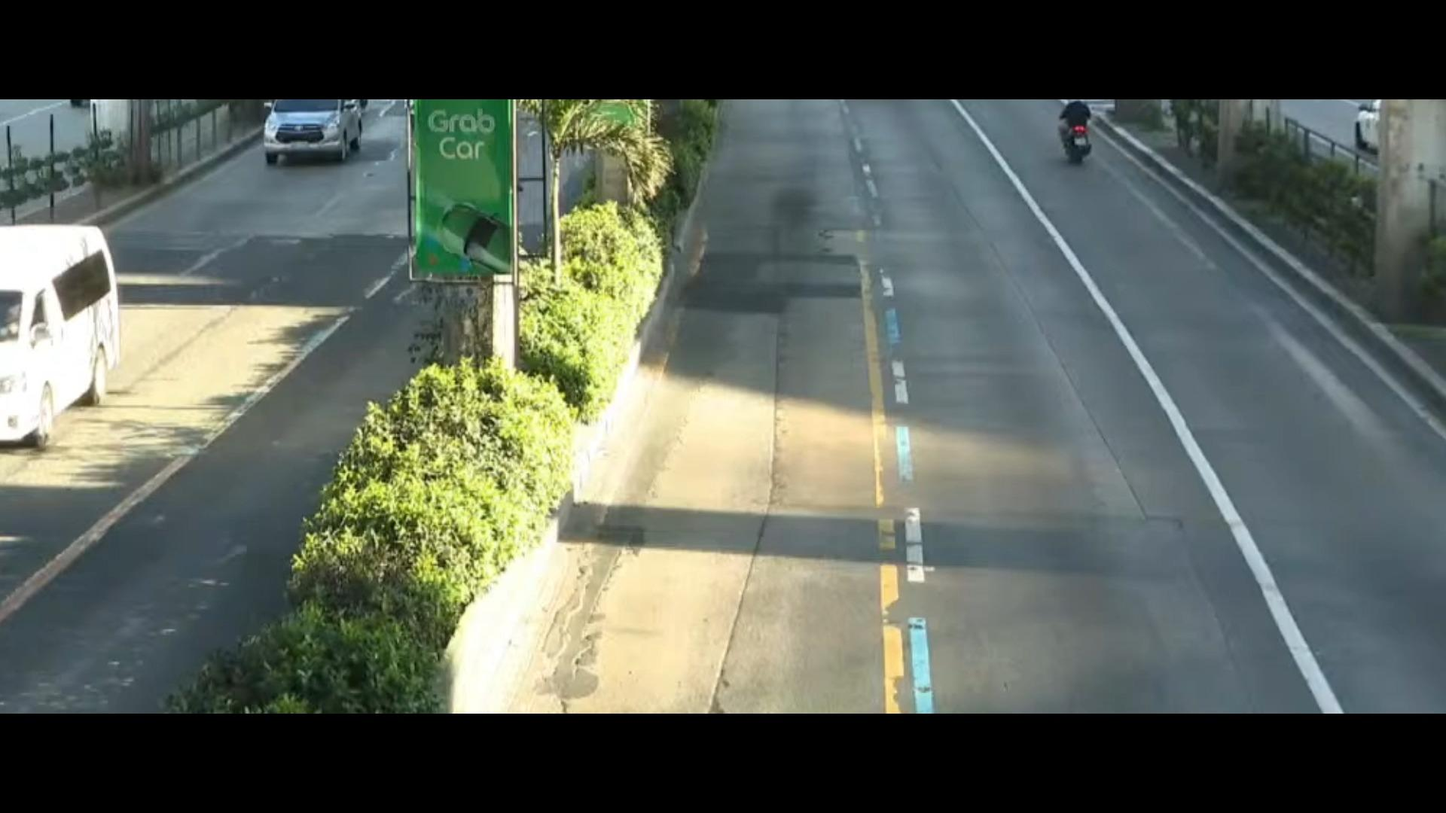SUV: (215, 99, 376, 174), (1017, 104, 1135, 185)
Van: (0, 209, 143, 464)
